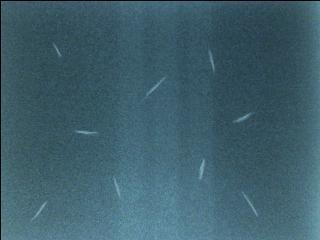scratch: (23, 192, 56, 227), (141, 68, 170, 106), (237, 187, 263, 220), (69, 120, 103, 144), (228, 105, 258, 131), (106, 174, 129, 206), (191, 153, 211, 187), (203, 43, 221, 80), (46, 35, 67, 63)
